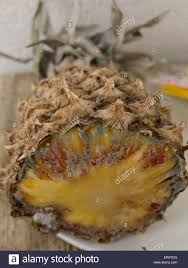damaged_pineapple: (11, 68, 178, 238)
